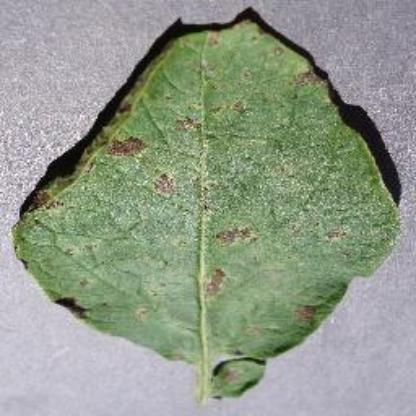Early-Blight: (12, 12, 416, 402)
